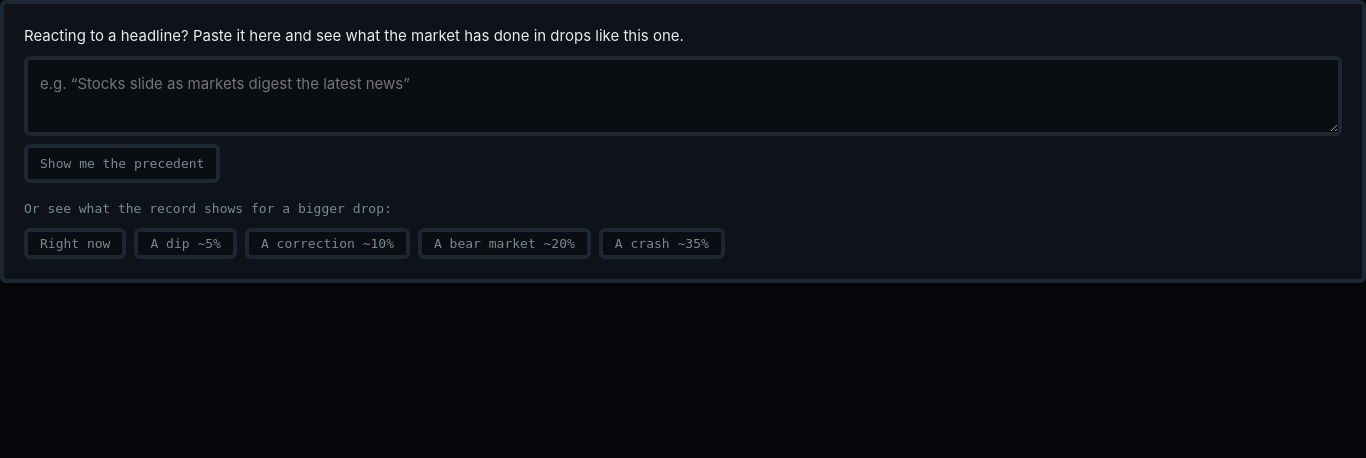
Scenario: HeadlineContextualizer — pull-only, calm, non-interpretive › network error → calm static fallback (no error/failed text)
This screenshot has width=1366, height=458.
Step 1. Type "Anything at all" into the text box with test id "headline-input" → (683, 96), box [24, 56, 1342, 136]
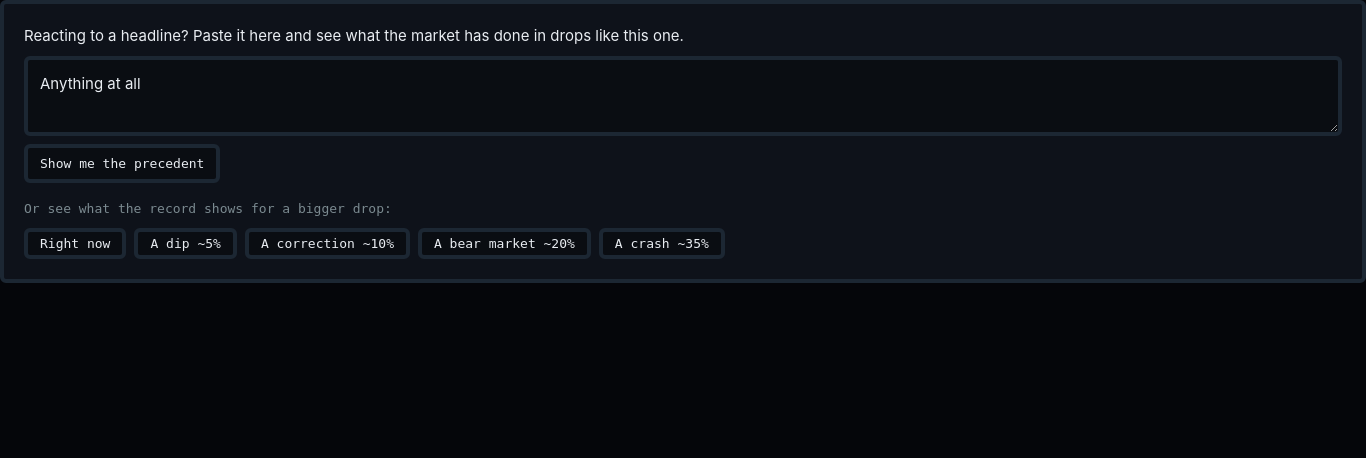
Step 2. Click the button with test id "headline-submit" → (122, 164), box [24, 144, 220, 183]
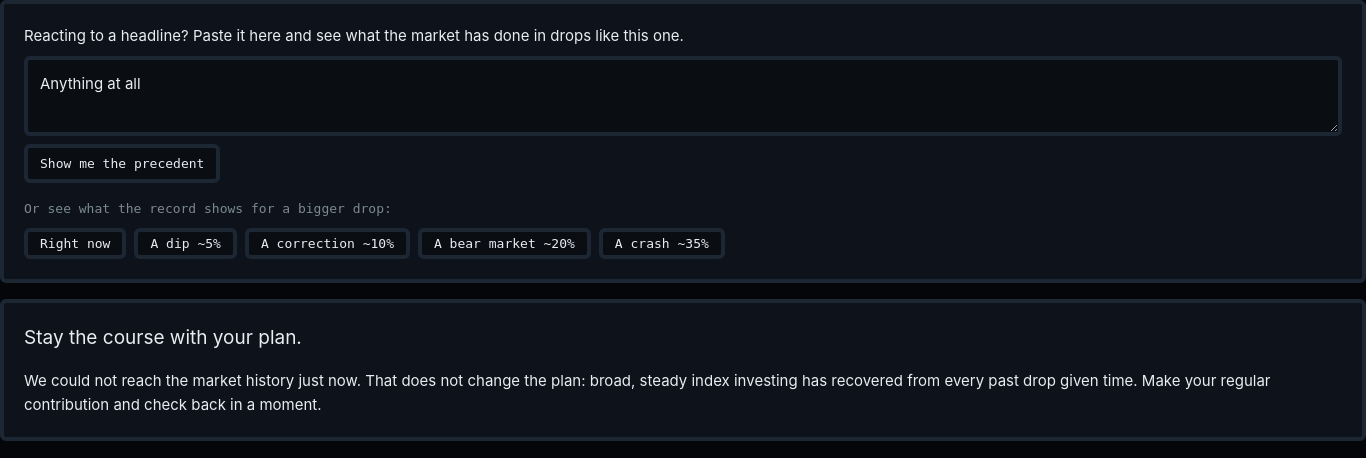
Now the element with test id "headline-fallback" is shown, box [0, 299, 1365, 441]
Now the element with test id "headline-fallback" shows "Stay the course with your plan", box [24, 326, 302, 349]
